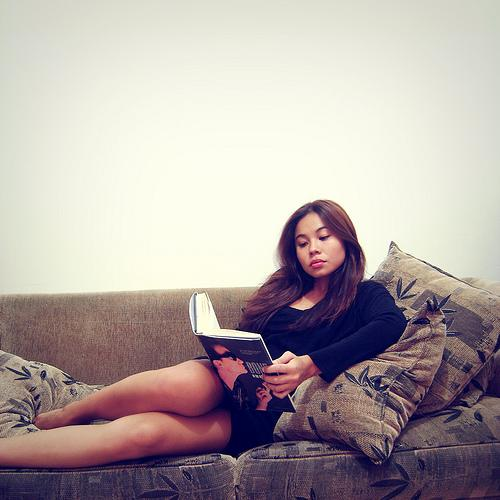person: (2, 202, 409, 472)
